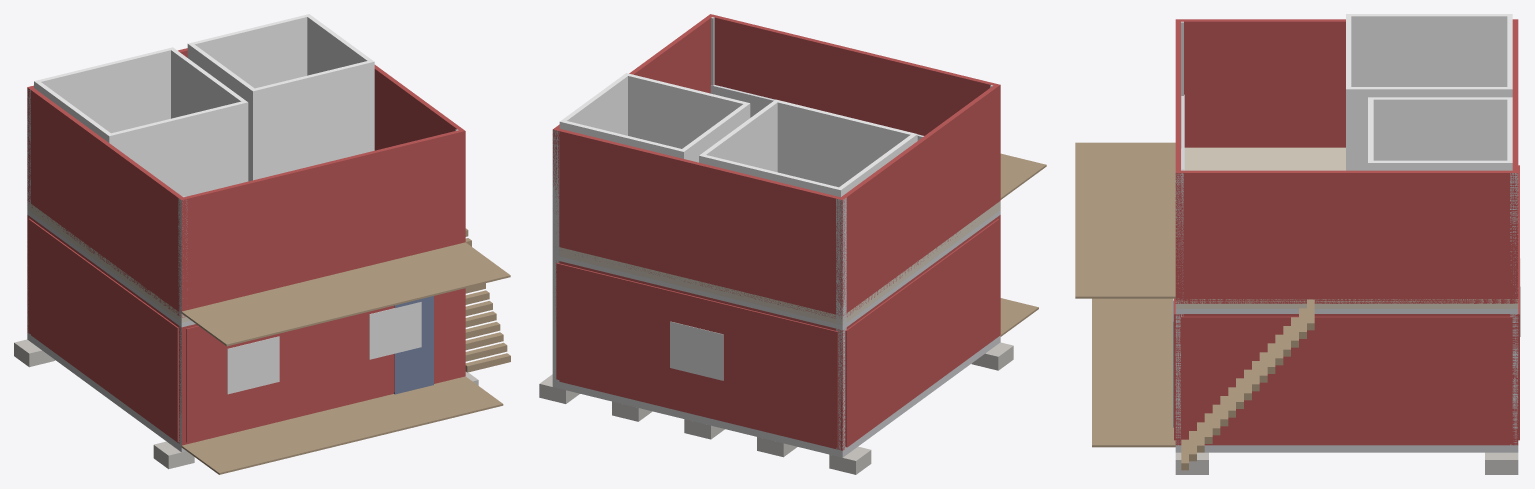
Rendered from Duplex-20-Base-CrimsonRed-LOD0.glb.
The picture shows the model from 3 angles, left to right: view 1: azimuth 30°, elevation 25°; view 2: azimuth 150°, elevation 25°; view 3: azimuth 270°, elevation 25°; orthographic projection. The views are drawn at different scales.
Visible parts, largest first — view 1: ExteriorShellUpper, ExteriorPanelsStandard, StudyUpper, BedroomUpper, BalconyUpper, BalconyGround, WindowsStandard, StaircaseExternal, ExteriorShell, EntryDoor, FoundationBlocks, FloorUpper (+3 smaller); view 2: ExteriorShellUpper, ExteriorPanelsStandard, BedroomUpper, StudyUpper, FloorUpper, VerticalStructure, FoundationBlocks, BaseFrame, ExteriorShell, WindowsStandard, TopFrame, BalconyUpper (+2 smaller); view 3: ExteriorShellUpper, ExteriorPanelsStandard, BalconyUpper, BedroomUpper, BalconyGround, StudyUpper, FloorUpper, StaircaseExternal, ExteriorShell, BaseFrame, VerticalStructure, TopFrame (+1 smaller).
Part boxes in pixels (x1,y1,x2,y2): ExteriorShellUpper: [27, 48, 465, 317]; ExteriorPanelsStandard: [28, 218, 461, 442]; StudyUpper: [187, 14, 374, 181]; BedroomUpper: [34, 47, 248, 196]; BalconyUpper: [181, 242, 510, 346]; BalconyGround: [181, 376, 503, 474]; WindowsStandard: [227, 302, 421, 394]; StaircaseExternal: [465, 228, 510, 372]; ExteriorShell: [27, 215, 465, 445]; EntryDoor: [394, 296, 433, 394]; FoundationBlocks: [14, 339, 478, 469]; FloorUpper: [27, 201, 190, 322]; ExteriorShellUpper: [552, 14, 1000, 318]; ExteriorPanelsStandard: [556, 219, 999, 447]; BedroomUpper: [699, 99, 917, 197]; StudyUpper: [559, 73, 750, 162]; FloorUpper: [558, 201, 1000, 325]; VerticalStructure: [552, 17, 998, 449]; FoundationBlocks: [539, 342, 1013, 474]; BaseFrame: [552, 335, 1000, 457]; ExteriorShell: [556, 215, 1000, 450]; WindowsStandard: [670, 321, 723, 380]; TopFrame: [555, 210, 1000, 329]; BalconyUpper: [1000, 153, 1046, 199]; ExteriorShellUpper: [1175, 19, 1518, 303]; ExteriorPanelsStandard: [1174, 165, 1519, 443]; BalconyUpper: [1075, 142, 1175, 298]; BedroomUpper: [1346, 14, 1512, 170]; BalconyGround: [1092, 298, 1175, 447]; StudyUpper: [1368, 97, 1512, 170]; FloorUpper: [1175, 147, 1518, 308]; StaircaseExternal: [1181, 299, 1314, 470]; ExteriorShell: [1175, 314, 1518, 445]; BaseFrame: [1175, 445, 1518, 452]; VerticalStructure: [1175, 21, 1518, 445]; TopFrame: [1175, 309, 1518, 313].
Bounding box in the file's own units: 7.94 × 6 × 8.
